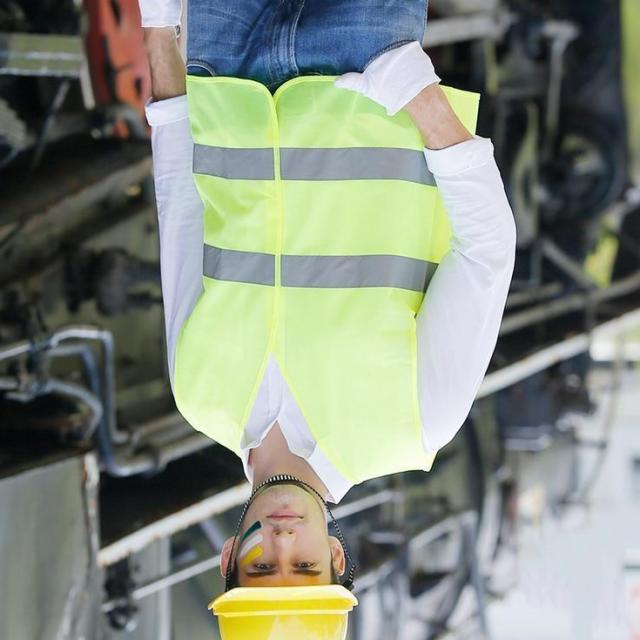helmet: (205, 585, 377, 640)
